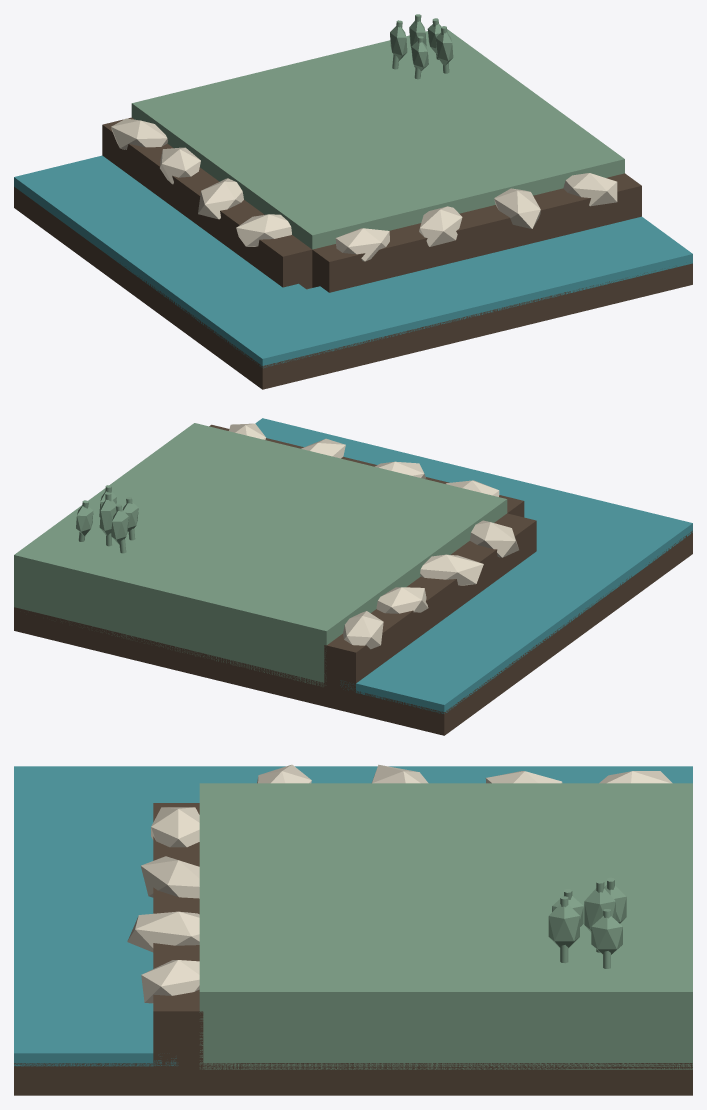
Rendered from bank_corner_inner.glb.
3 views of the same model, one above another, from view 1: azimuth 30°, elevation 25°; view 2: azimuth 150°, elevation 25°; view 3: azimuth 270°, elevation 25° (orthographic). The views are drawn at different scales.
Visible parts, largest first — view 1: bank_corner_inner pine, bank_corner_inner water, bank_corner_inner soil, bank_corner_inner mist, bank_corner_inner leaf; view 2: bank_corner_inner pine, bank_corner_inner water, bank_corner_inner soil, bank_corner_inner mist, bank_corner_inner leaf; view 3: bank_corner_inner pine, bank_corner_inner water, bank_corner_inner soil, bank_corner_inner mist, bank_corner_inner leaf.
Boxes of the visible parts, left/top/right/bottom form: bank_corner_inner pine: left=131, top=14, right=624, bottom=249; bank_corner_inner water: left=14, top=155, right=692, bottom=368; bank_corner_inner soil: left=14, top=117, right=692, bottom=389; bank_corner_inner mist: left=111, top=118, right=617, bottom=261; bank_corner_inner leaf: left=390, top=21, right=453, bottom=70; bank_corner_inner pine: left=14, top=423, right=507, bottom=686; bank_corner_inner water: left=255, top=418, right=692, bottom=713; bank_corner_inner soil: left=14, top=424, right=692, bottom=735; bank_corner_inner mist: left=229, top=423, right=518, bottom=649; bank_corner_inner leaf: left=76, top=491, right=138, bottom=544; bank_corner_inner pine: left=199, top=783, right=692, bottom=1069; bank_corner_inner water: left=14, top=766, right=692, bottom=1066; bank_corner_inner soil: left=14, top=803, right=692, bottom=1095; bank_corner_inner mist: left=127, top=764, right=672, bottom=1003; bank_corner_inner leaf: left=548, top=885, right=626, bottom=954.
Size of the model in its own units: 0.95 by 0.268 by 0.95.
